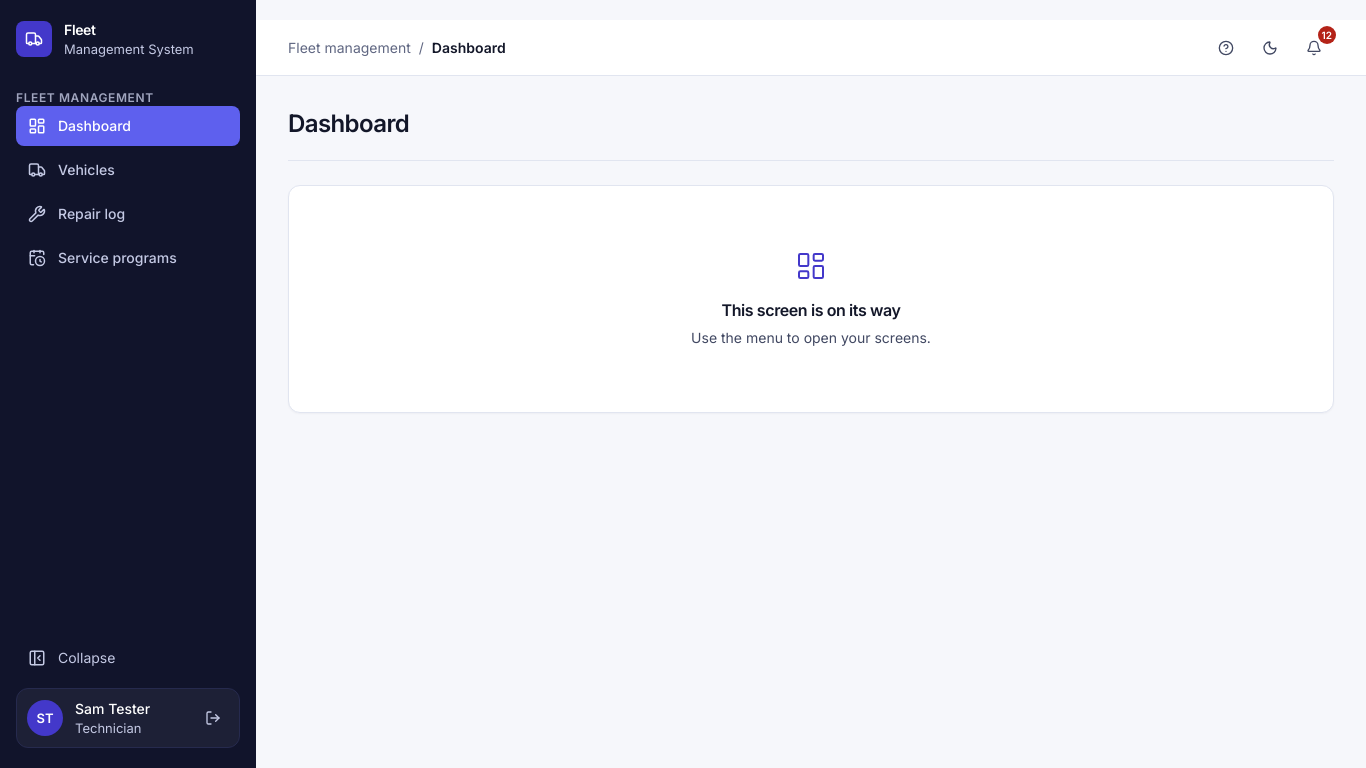
Test: the panel › fits a 375 px phone: the width of the screen under the top bar, scrolling inside, with touch-sized rows
The width and height of the screenshot is (1366, 768).
Click the button named "Notifications": x=1314, y=48 [1294, 28, 1334, 68]
(page scrolled)
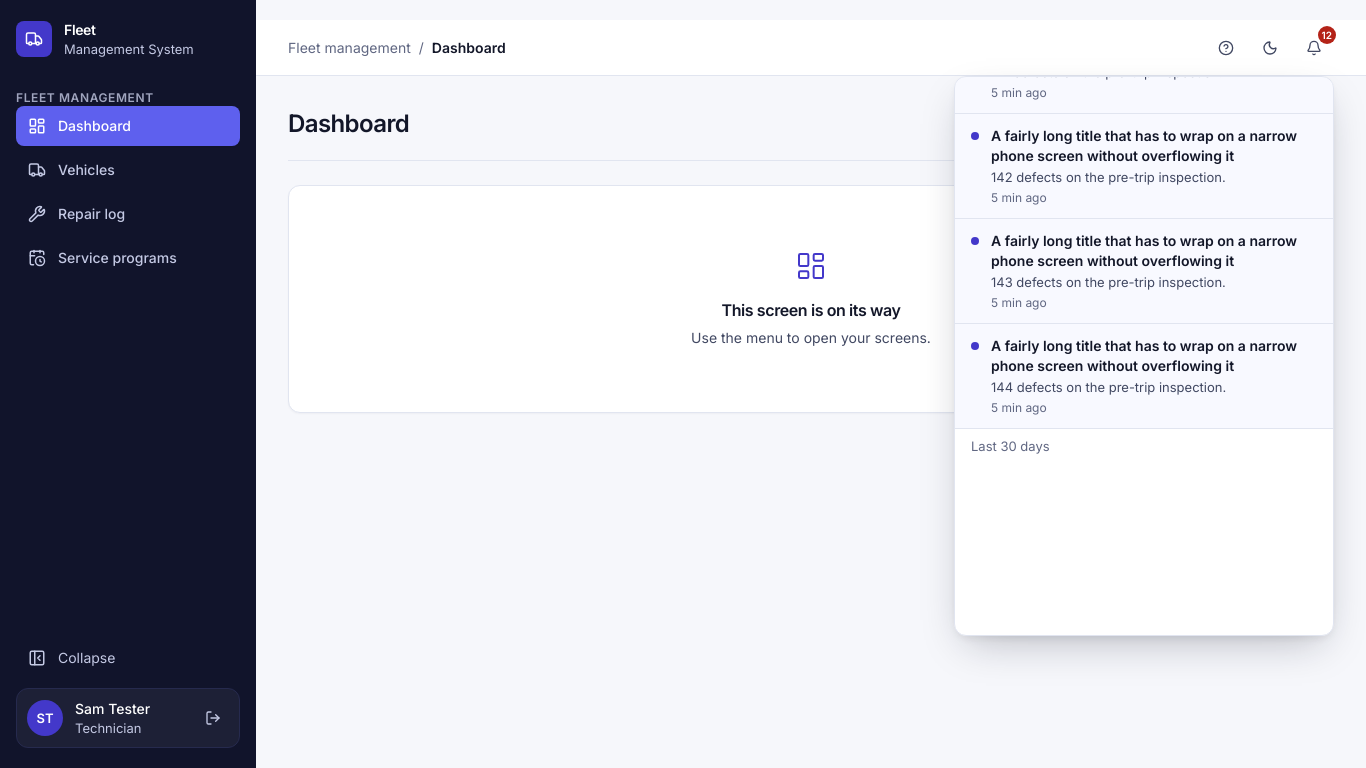
Result: the 1st element with class "overflow-y-auto" is shown at [955, 76, 1333, 428]
